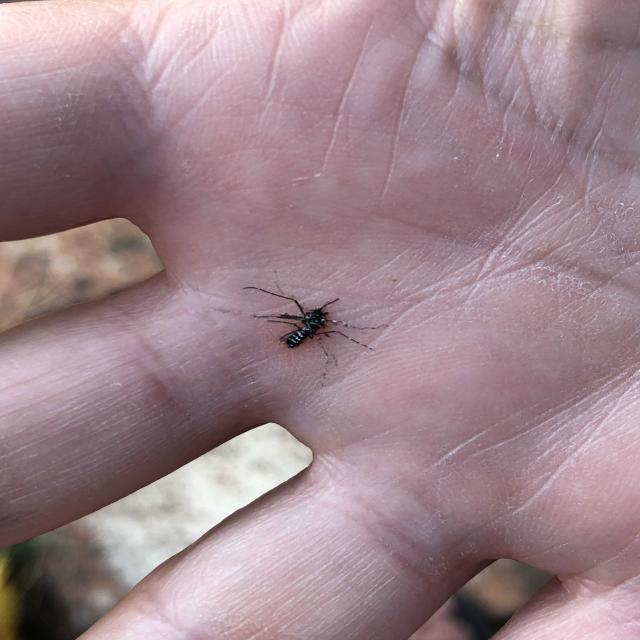albopictus: (230, 278, 386, 362)
